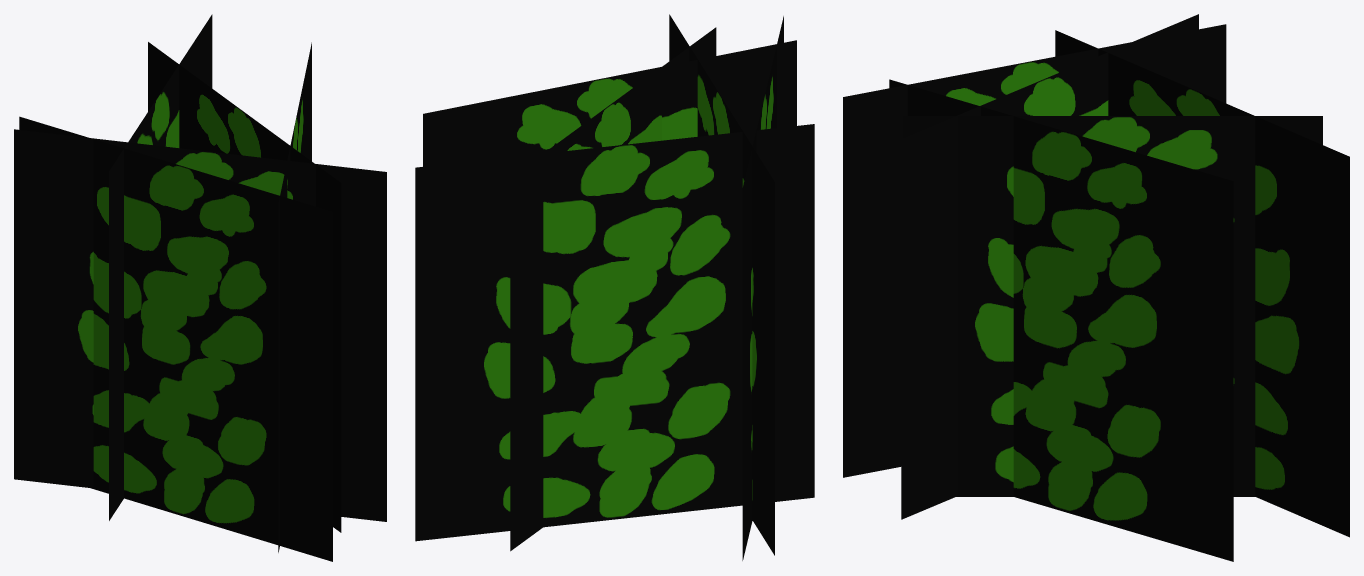
The model's file is bouleau_foliage.glb.
3 renders of one model, left to right at view 1: azimuth 30°, elevation 25°; view 2: azimuth 150°, elevation 25°; view 3: azimuth 270°, elevation 25°, orthographic. The views are drawn at different scales.
Parts seen in each view (by area): view 1: Plane.073, Plane.072, Plane.069, Plane.071, Plane.070; view 2: Plane.071, Plane.070, Plane.069, Plane.072, Plane.073; view 3: Plane.070, Plane.071, Plane.069, Plane.073, Plane.072.
Part boxes in pixels (x1,y1,x2,y2): Plane.073: (19, 116, 332, 561); Plane.072: (14, 129, 386, 521); Plane.069: (148, 42, 341, 532); Plane.071: (109, 14, 212, 520); Plane.070: (278, 42, 311, 552); Plane.071: (415, 124, 814, 541); Plane.070: (423, 40, 796, 166); Plane.069: (510, 27, 716, 551); Plane.072: (669, 14, 774, 555); Plane.073: (742, 16, 783, 560); Plane.070: (889, 79, 1233, 561); Plane.071: (1055, 30, 1349, 537); Plane.069: (903, 116, 1322, 496); Plane.073: (843, 24, 1226, 477); Plane.072: (901, 14, 1198, 519).
Size of the model in its own units: 1.15 by 1.23 by 1.48.
1 material, 1 textured.
